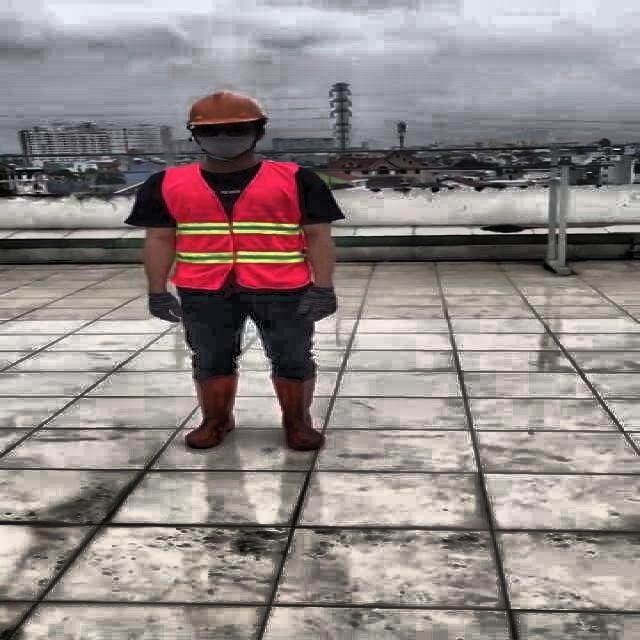safety_jacket: (160, 164, 310, 288)
